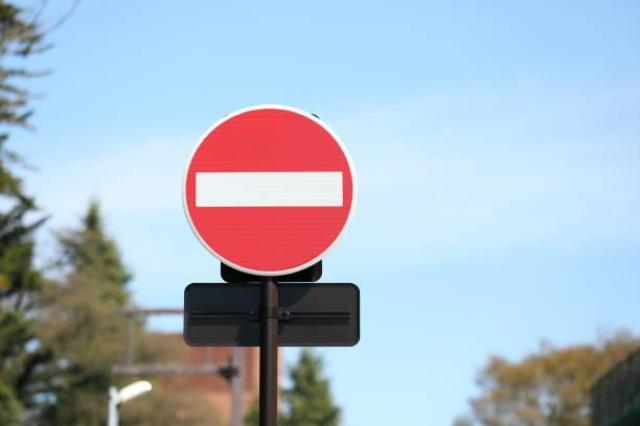B2: (180, 102, 358, 276)
